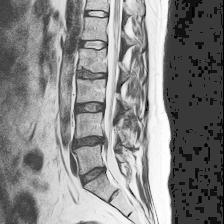disc: (78, 37, 111, 55), (84, 6, 113, 23)
hdisc: (72, 132, 110, 154), (75, 66, 112, 86), (78, 164, 110, 187), (73, 99, 109, 119)
